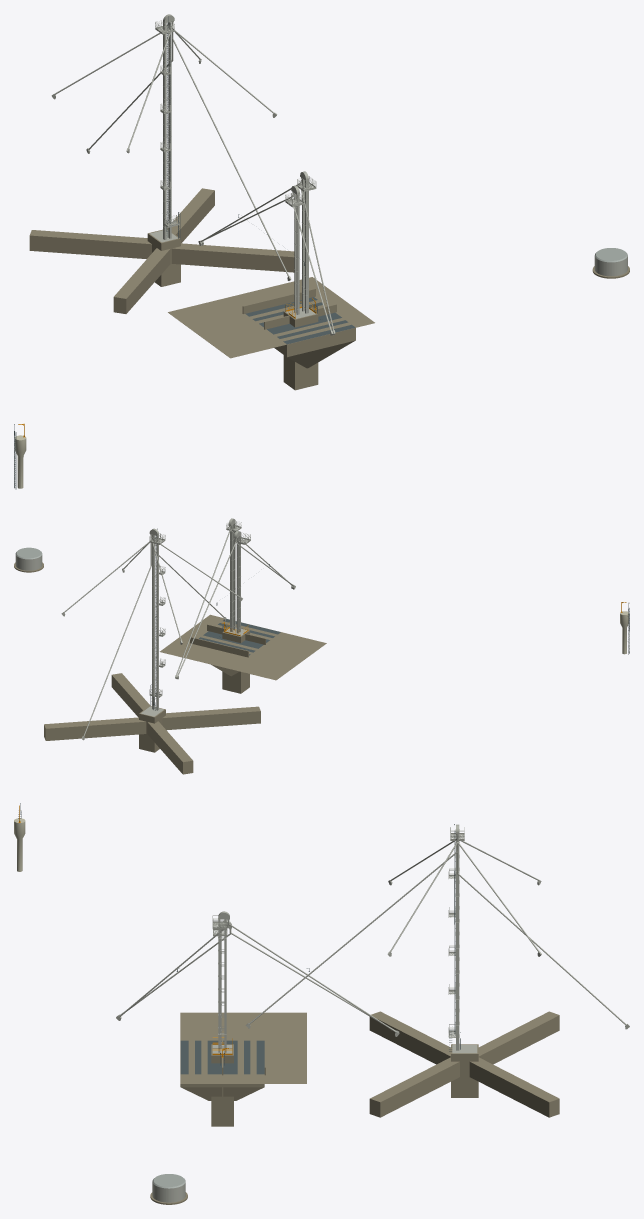
The model's file is grain-handling.glb.
The picture shows the model from 3 angles, top to bottom: view 1: azimuth 30°, elevation 25°; view 2: azimuth 150°, elevation 25°; view 3: azimuth 270°, elevation 25°; orthographic projection. The views are drawn at different scales.
Parts seen in each view (by area): view 1: CAD-HOPPER-PITS-concrete-cad, CAD-SILO-PIT-TUNNELS-concrete-cad, EQ-02-paint-cad, EQ-01-paint-cad, CAD-HOPPER-CONNECTIONS-paint-cad, CAD-HOPPER-CONNECTIONS-zinc-edge-cad, CAD-HOPPER-ELEVATOR-01-paint-cad, CAD-HOPPER-ELEVATOR-02-paint-cad; view 2: CAD-SILO-PIT-TUNNELS-concrete-cad, CAD-HOPPER-PITS-concrete-cad, EQ-02-paint-cad, EQ-01-paint-cad, CAD-HOPPER-CONNECTIONS-paint-cad, CAD-HOPPER-CONNECTIONS-zinc-edge-cad, CAD-HOPPER-ELEVATOR-01-paint-cad, CAD-HOPPER-ELEVATOR-02-paint-cad; view 3: CAD-HOPPER-PITS-concrete-cad, CAD-SILO-PIT-TUNNELS-concrete-cad, EQ-02-paint-cad, CAD-HOPPER-CONNECTIONS-zinc-edge-cad, CAD-HOPPER-CONNECTIONS-paint-cad, CAD-HOPPER-ELEVATOR-01-paint-cad, EQ-01-paint-cad.
Part boxes in pixels (x1,y1,x2,y2): CAD-HOPPER-PITS-concrete-cad: (168, 277, 374, 390); CAD-SILO-PIT-TUNNELS-concrete-cad: (29, 188, 294, 313); EQ-02-paint-cad: (51, 20, 291, 280); EQ-01-paint-cad: (163, 14, 174, 239); CAD-HOPPER-CONNECTIONS-paint-cad: (198, 176, 335, 335); CAD-HOPPER-CONNECTIONS-zinc-edge-cad: (238, 214, 355, 344); CAD-HOPPER-ELEVATOR-01-paint-cad: (300, 171, 308, 313); CAD-HOPPER-ELEVATOR-02-paint-cad: (291, 185, 299, 314); CAD-SILO-PIT-TUNNELS-concrete-cad: (44, 673, 260, 774); CAD-HOPPER-PITS-concrete-cad: (159, 614, 326, 693); EQ-02-paint-cad: (61, 533, 242, 740); EQ-01-paint-cad: (149, 528, 158, 710); CAD-HOPPER-CONNECTIONS-paint-cad: (175, 521, 295, 679); CAD-HOPPER-CONNECTIONS-zinc-edge-cad: (199, 564, 280, 655); CAD-HOPPER-ELEVATOR-01-paint-cad: (228, 518, 235, 631); CAD-HOPPER-ELEVATOR-02-paint-cad: (234, 531, 241, 633); CAD-HOPPER-PITS-concrete-cad: (180, 1012, 306, 1126); CAD-SILO-PIT-TUNNELS-concrete-cad: (369, 1011, 559, 1117); EQ-02-paint-cad: (245, 827, 629, 1053); CAD-HOPPER-CONNECTIONS-zinc-edge-cad: (176, 968, 309, 1074); CAD-HOPPER-CONNECTIONS-paint-cad: (116, 915, 399, 1053); CAD-HOPPER-ELEVATOR-01-paint-cad: (218, 911, 229, 1052); EQ-01-paint-cad: (455, 824, 459, 1050).
Bounding box in the file's own units: 113 × 44.92 × 87.
